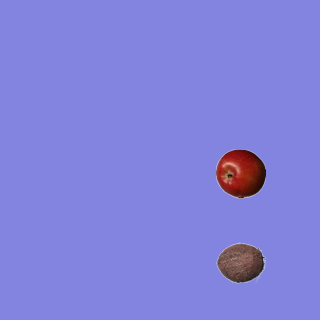Apple Braeburn: (215, 148, 265, 198)
Cocos: (215, 237, 265, 287)
